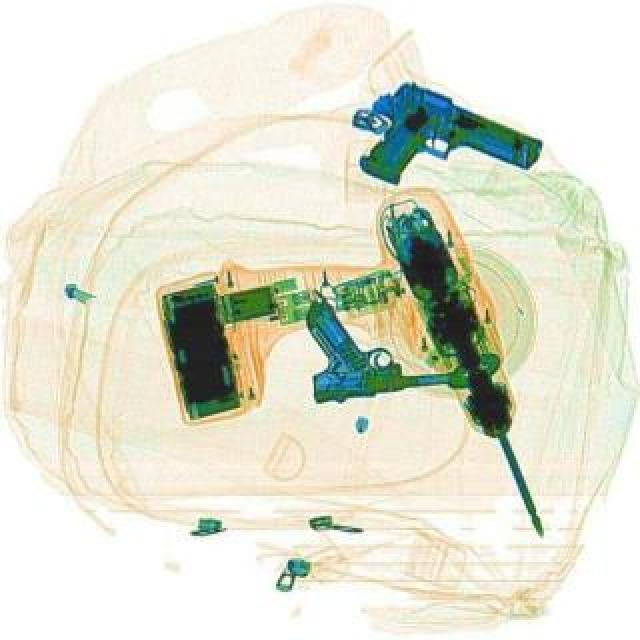gun: (340, 70, 548, 228), (300, 284, 494, 402)
